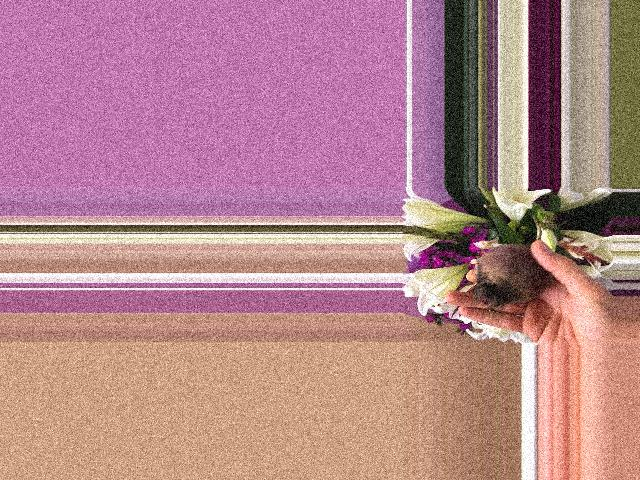beet: (472, 214, 550, 305)
